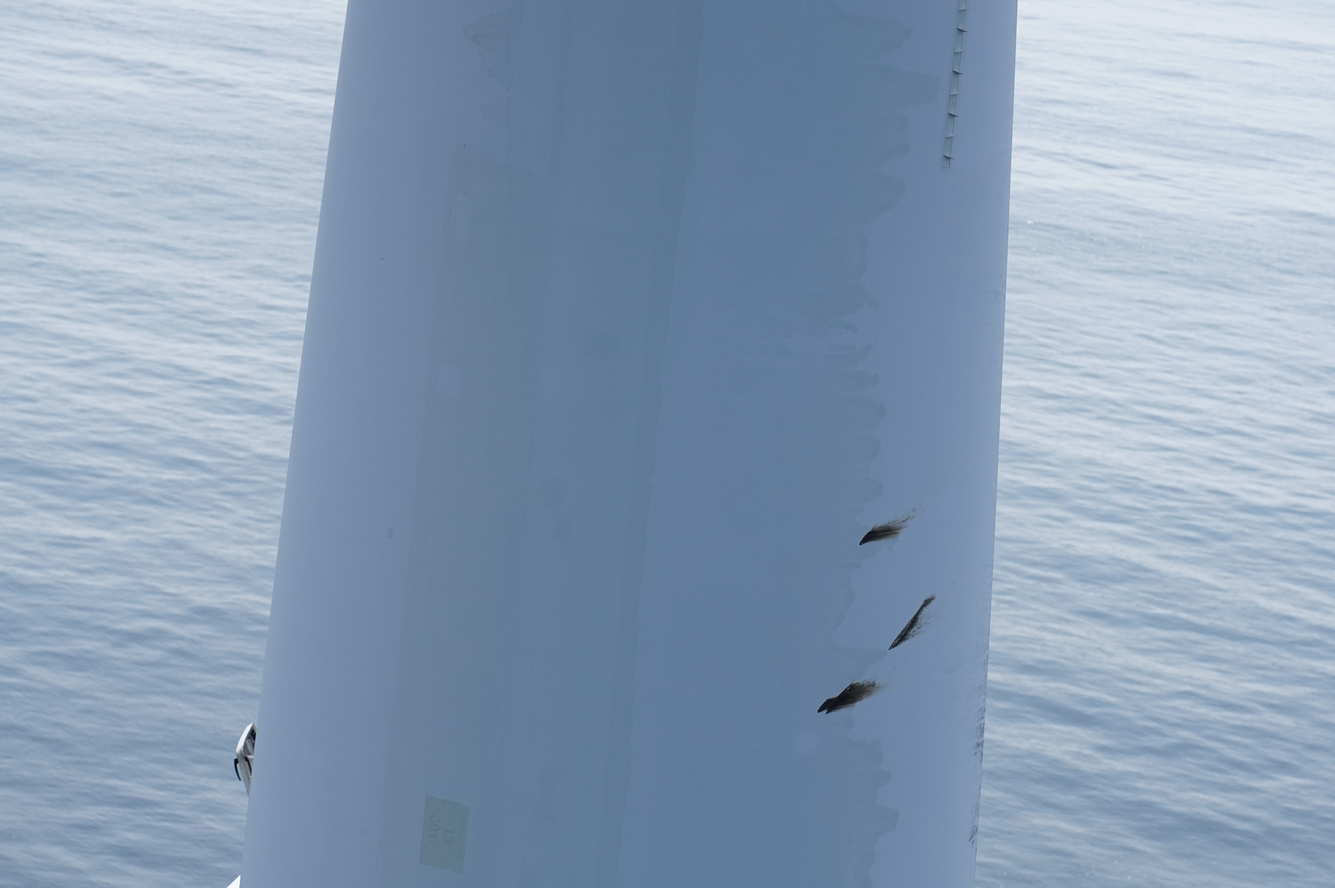Dirt: (887, 594, 936, 652), (813, 679, 884, 718), (857, 514, 910, 546)
